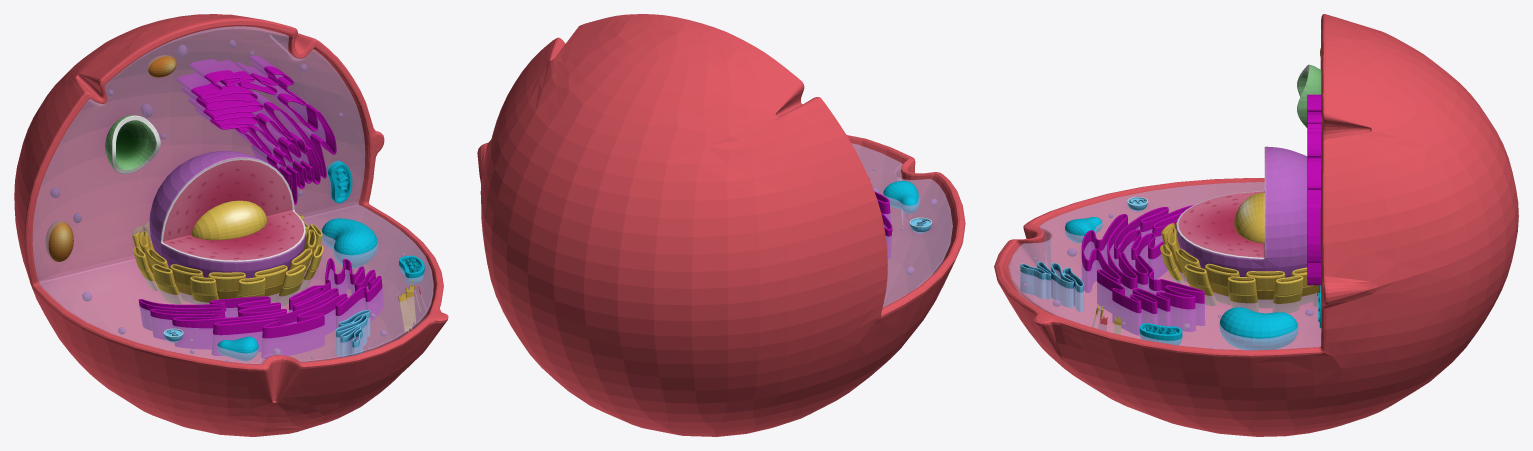
The model's file is Animal Cell Detail.gltf.
The picture shows the model from 3 angles, left to right: view 1: azimuth 30°, elevation 25°; view 2: azimuth 150°, elevation 25°; view 3: azimuth 270°, elevation 25°; orthographic projection. The views are drawn at different scales.
Size of the model in its own units: 0.1442 by 0.1388 by 0.1737.
2 materials, 2 textured.
